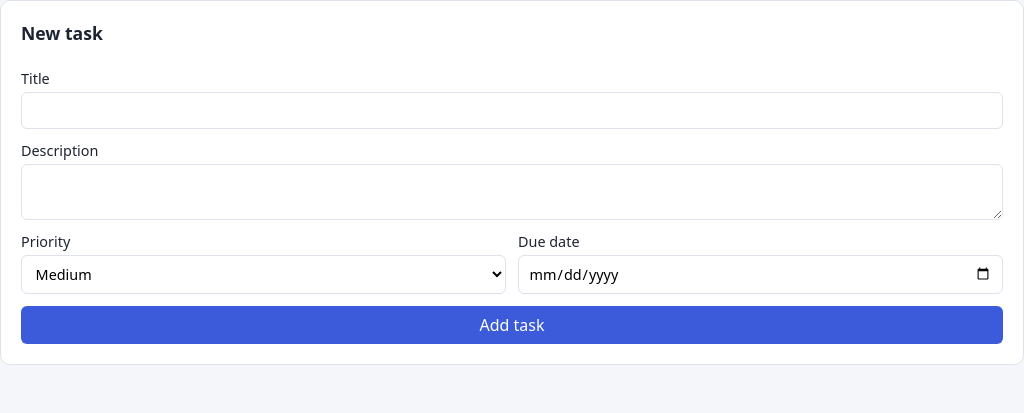
Test case: TaskForm › shows a validation error when the title is empty
The width and height of the screenshot is (1024, 413).
Click the button "Add task". click: (512, 325)
box: [21,306,1003,344]
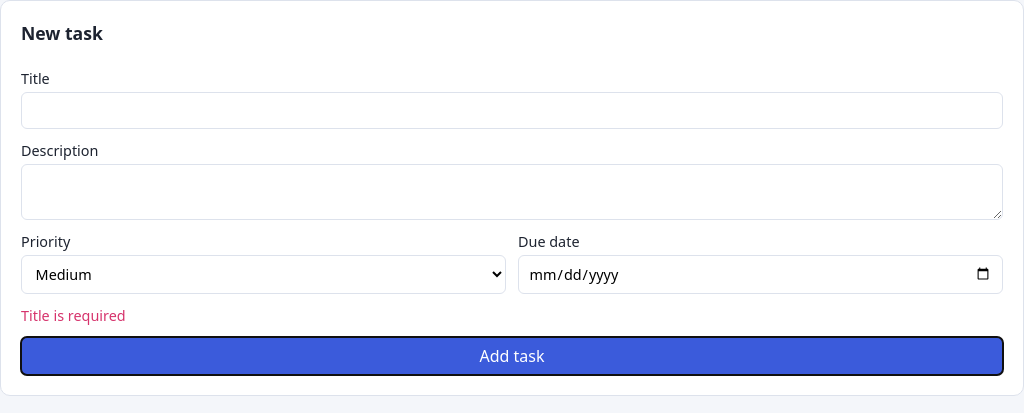
Now the message reads "Title is required", box [21,306,126,325]
